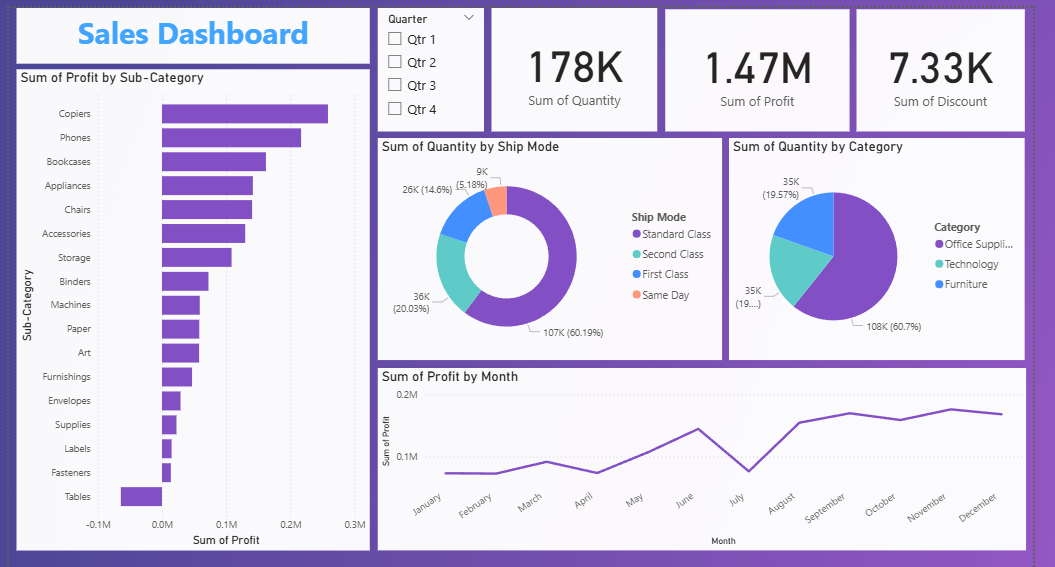

What the dashboard file says about the page in this screenshot:
{"tool":"powerbi","page":{"name":"Page 1","canvas":[1280,720],"ordinal":0},"visuals":[{"type":"textbox","box":[9.6,0,441.9,70],"z":0},{"type":"slicer","fields":{"Values":["Orders.Order Date.Variation.Date Hierarchy.Quarter"]},"box":[460.8,0,132.9,154.4],"z":1000},{"type":"card","fields":{"Values":["Sum(Orders.Quantity)"]},"box":[603.8,0,207.6,154.4],"z":2000},{"type":"card","fields":{"Values":["Sum(Orders.Profit)"]},"box":[820.3,1.3,230.4,153.2],"z":3000},{"type":"card","fields":{"Values":["Sum(Orders.Discount)"]},"box":[1059.5,1.3,210.1,153.2],"z":4000},{"type":"barChart","fields":{"Category":["Orders.Sub-Category"],"Y":["Sum(Orders.Profit)"]},"box":[10.1,75.9,441.8,601.3],"z":5000},{"type":"donutChart","fields":{"Category":["Orders.Ship Mode"],"Y":["Sum(Orders.Quantity)"]},"box":[460.8,162,430.4,277.2],"z":6000},{"type":"lineChart","fields":{"Category":["Orders.Order Date.Variation.Date Hierarchy.Month"],"Y":["Sum(Orders.Profit)"]},"box":[460.8,449.4,810.1,227.8],"z":7000},{"type":"pieChart","fields":{"Category":["Orders.Category"],"Y":["Sum(Orders.Quantity)"]},"box":[900,162,369.6,277.2],"z":8000}]}

Visuals, with their boxes in screenshot pixels (x1, y1, x2, y2):
textbox: (13, 0, 368, 56)
slicer - Orders.Order Date.Variation.Date Hierarchy.Quarter: (376, 0, 483, 124)
card - Sum(Orders.Quantity): (491, 0, 658, 124)
card - Sum(Orders.Profit): (665, 1, 850, 124)
card - Sum(Orders.Discount): (857, 1, 1026, 124)
barChart - Orders.Sub-Category x Sum(Orders.Profit): (14, 61, 369, 544)
donutChart - Orders.Ship Mode x Sum(Orders.Quantity): (376, 130, 722, 353)
lineChart - Orders.Order Date.Variation.Date Hierarchy.Month x Sum(Orders.Profit): (376, 361, 1027, 544)
pieChart - Orders.Category x Sum(Orders.Quantity): (729, 130, 1026, 353)
